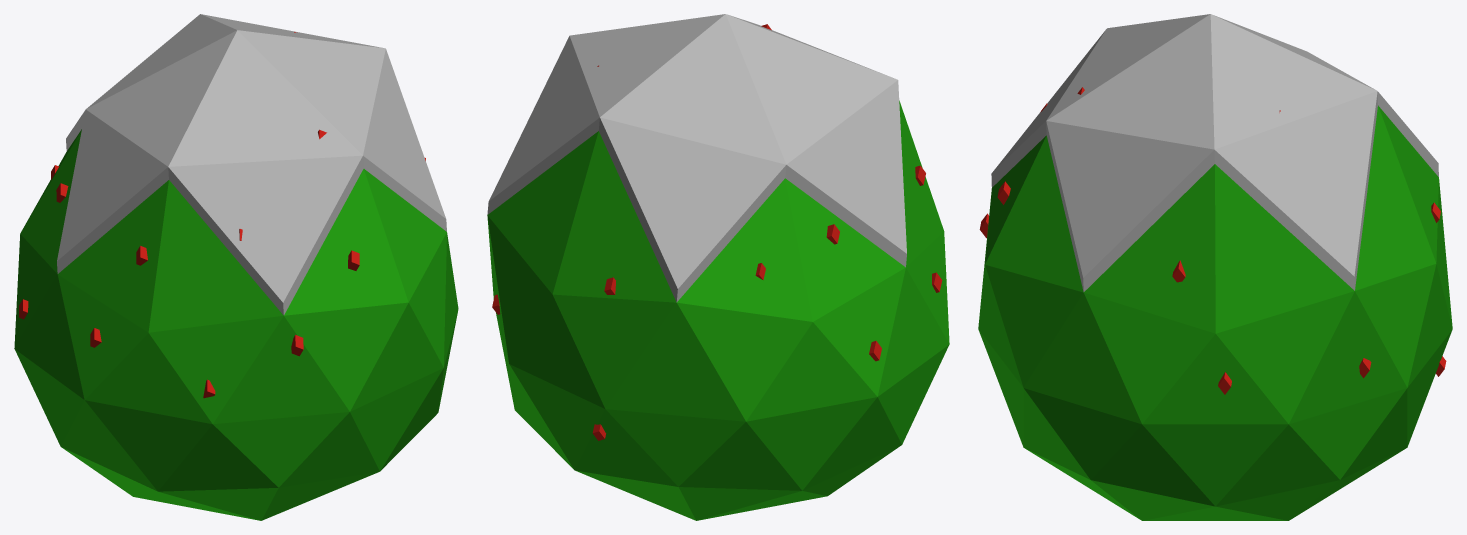
Rendered from Bush_5 Winter.fbx.
3 views of the same model, side by side, from view 1: azimuth 30°, elevation 25°; view 2: azimuth 150°, elevation 25°; view 3: azimuth 270°, elevation 25° (orthographic). The views are drawn at different scales.
Parts seen in each view (by area): view 1: Bush5Winter_mesh; view 2: Bush5Winter_mesh; view 3: Bush5Winter_mesh.
Part boxes in pixels (left/top/right/bottom): Bush5Winter_mesh: left=14, top=14, right=458, bottom=520; Bush5Winter_mesh: left=487, top=14, right=949, bottom=520; Bush5Winter_mesh: left=978, top=14, right=1452, bottom=520.
Size of the model in its own units: 159 by 186 by 164.
